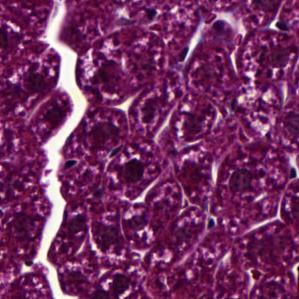inflammation: (165, 90, 218, 153)
